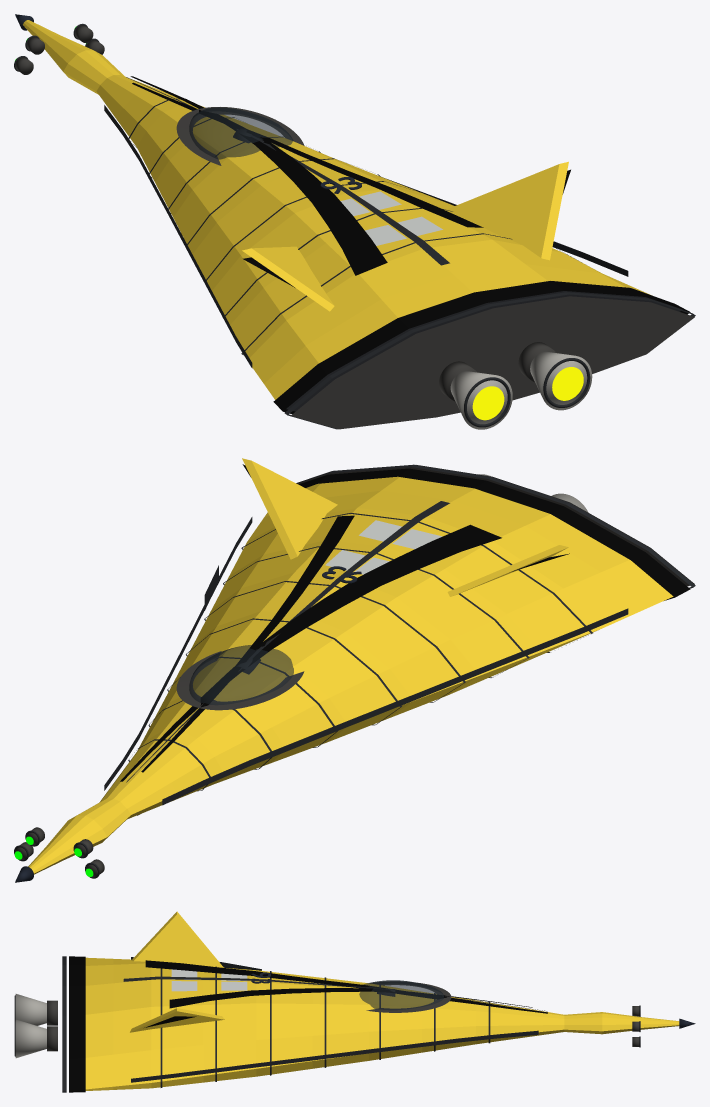
The model's file is Ship_PyramidLifter_990348.glb.
The picture shows the model from 3 angles, top to bottom: view 1: azimuth 30°, elevation 25°; view 2: azimuth 150°, elevation 25°; view 3: azimuth 270°, elevation 25°; orthographic projection. The views are drawn at different scales.
Visible parts, largest first — view 1: Fuselage_MainPyramidalLiftingBody, EngineDeck_AftFacetedDarkMountPlate, TailFin_Right_ShortCantedStabilizer, EngineDeck_AftOuterArmorCollar, PaintDiagonalArmor_TopPrimarySlash, CanopyGlass_LowInsetSmokedDome, Nose_FacetedRamNeedle, TailFin_Left_ShortCantedStabilizer, PaintDiagonalArmor_TopSecondaryCounterSlash, CanopyFrame_LowInsetArmoredOvalRim, EngineEmitter, EngineBell_Left_BurnishedNozzle (+7 smaller); view 2: Fuselage_MainPyramidalLiftingBody, PaintDiagonalArmor_TopPrimarySlash, EngineDeck_AftOuterArmorCollar, CanopyGlass_LowInsetSmokedDome, TailFin_Right_ShortCantedStabilizer, SideChinePanel_Left_LongDarkArmorJoint, Nose_FacetedRamNeedle, PaintDiagonalArmor_TopSecondaryCounterSlash, CanopyFrame_LowInsetArmoredOvalRim, EngineDeck_AftDarkCompressionSeal, EngineDeck_AftFacetedDarkMountPlate, HullLongitudinalSeam_DorsalRidgeDarkLine (+4 smaller); view 3: Fuselage_MainPyramidalLiftingBody, TailFin_Left_ShortCantedStabilizer, EngineDeck_AftOuterArmorCollar, CanopyGlass_LowInsetSmokedDome, SideChinePanel_Right_LongDarkArmorJoint, Nose_FacetedRamNeedle, PaintDiagonalArmor_TopPrimarySlash, PaintDiagonalArmor_TopSecondaryCounterSlash, EngineBell_Right_BurnishedNozzle, TailFin_Right_ShortCantedStabilizer, EngineBell_Left_BurnishedNozzle, CanopyFrame_LowInsetArmoredOvalRim (+5 smaller).
Boxes of the visible parts, x1,y1,x2,y2 form: Fuselage_MainPyramidalLiftingBody: [96, 75, 682, 411]; EngineDeck_AftFacetedDarkMountPlate: [291, 296, 694, 429]; TailFin_Right_ShortCantedStabilizer: [445, 161, 568, 260]; EngineDeck_AftOuterArmorCollar: [273, 281, 690, 414]; PaintDiagonalArmor_TopPrimarySlash: [130, 76, 387, 275]; CanopyGlass_LowInsetSmokedDome: [189, 107, 293, 159]; Nose_FacetedRamNeedle: [23, 20, 124, 94]; TailFin_Left_ShortCantedStabilizer: [242, 246, 334, 311]; PaintDiagonalArmor_TopSecondaryCounterSlash: [132, 82, 483, 227]; CanopyFrame_LowInsetArmoredOvalRim: [176, 107, 304, 165]; EngineEmitter: [472, 367, 583, 420]; EngineBell_Left_BurnishedNozzle: [450, 371, 512, 429]; Fuselage_MainPyramidalLiftingBody: [99, 476, 673, 819]; PaintDiagonalArmor_TopPrimarySlash: [120, 524, 501, 781]; EngineDeck_AftOuterArmorCollar: [298, 468, 690, 600]; CanopyGlass_LowInsetSmokedDome: [189, 645, 293, 705]; TailFin_Right_ShortCantedStabilizer: [242, 458, 337, 559]; SideChinePanel_Left_LongDarkArmorJoint: [162, 608, 628, 805]; Nose_FacetedRamNeedle: [28, 798, 130, 874]; PaintDiagonalArmor_TopSecondaryCounterSlash: [141, 515, 354, 772]; CanopyFrame_LowInsetArmoredOvalRim: [176, 651, 304, 710]; EngineDeck_AftDarkCompressionSeal: [296, 464, 695, 588]; EngineDeck_AftFacetedDarkMountPlate: [298, 465, 694, 586]; HullLongitudinalSeam_DorsalRidgeDarkLine: [126, 501, 449, 782]; Fuselage_MainPyramidalLiftingBody: [85, 957, 564, 1090]; TailFin_Left_ShortCantedStabilizer: [131, 911, 223, 967]; EngineDeck_AftOuterArmorCollar: [69, 956, 85, 1092]; CanopyGlass_LowInsetSmokedDome: [359, 980, 443, 1010]; SideChinePanel_Right_LongDarkArmorJoint: [131, 1030, 538, 1082]; Nose_FacetedRamNeedle: [564, 1012, 679, 1034]; PaintDiagonalArmor_TopPrimarySlash: [145, 960, 547, 1013]; PaintDiagonalArmor_TopSecondaryCounterSlash: [169, 988, 532, 1008]; EngineBell_Right_BurnishedNozzle: [15, 1019, 46, 1058]; TailFin_Right_ShortCantedStabilizer: [130, 1008, 224, 1032]; EngineBell_Left_BurnishedNozzle: [15, 994, 46, 1025]; CanopyFrame_LowInsetArmoredOvalRim: [366, 982, 451, 1012].
Size of the model in its own units: 3.56 by 1.24 by 7.75.
